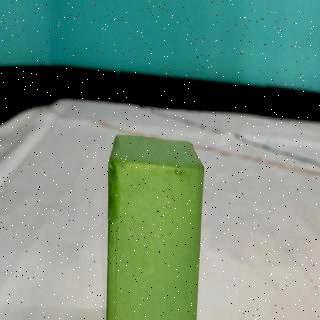greenbox: (106, 133, 207, 320)
